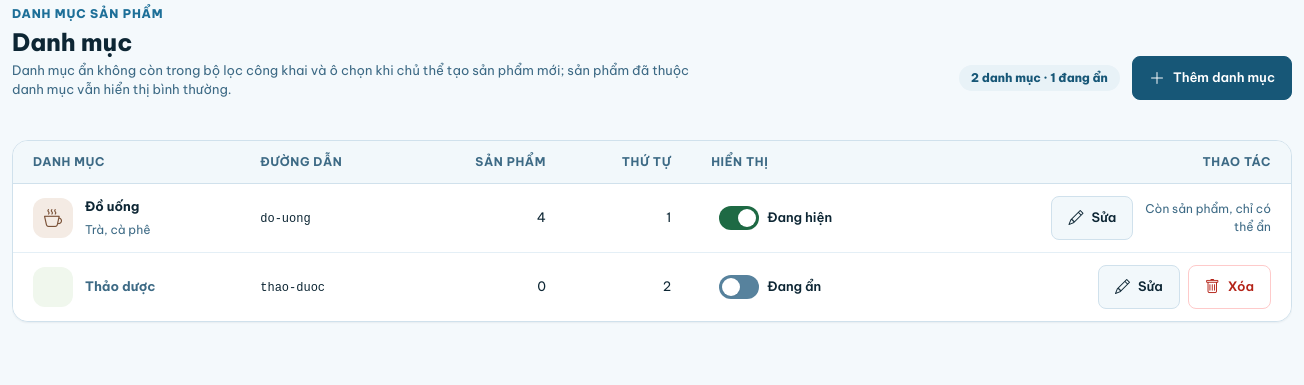
it: AdminCategoriesView › bật/tắt hiển thị gọi API và cập nhật dòng
Click the switch named "Hiển thị danh mục Đồ uống": click(776, 218) left=711, top=196, right=840, bottom=240
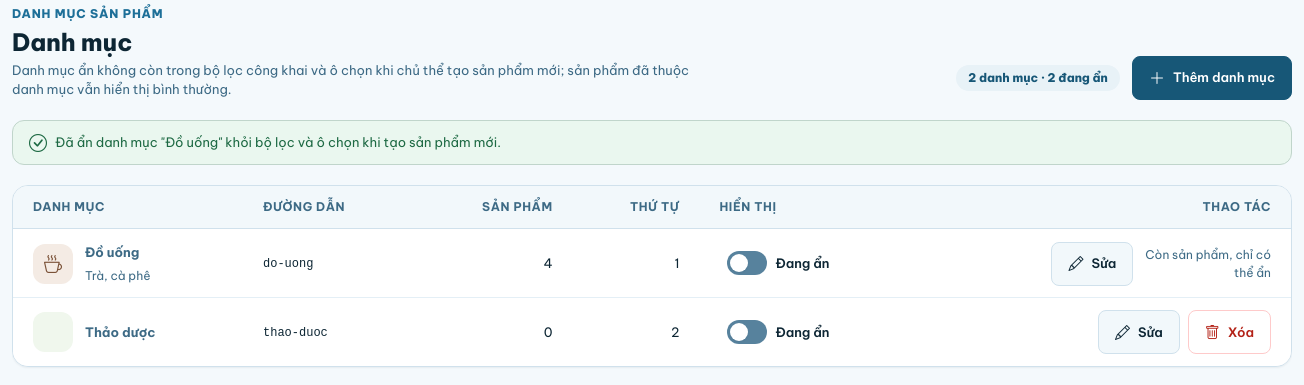
Check: the text "Đã ẩn danh mục \"Đồ uống\"" is shown, box left=55, top=134, right=501, bottom=150
